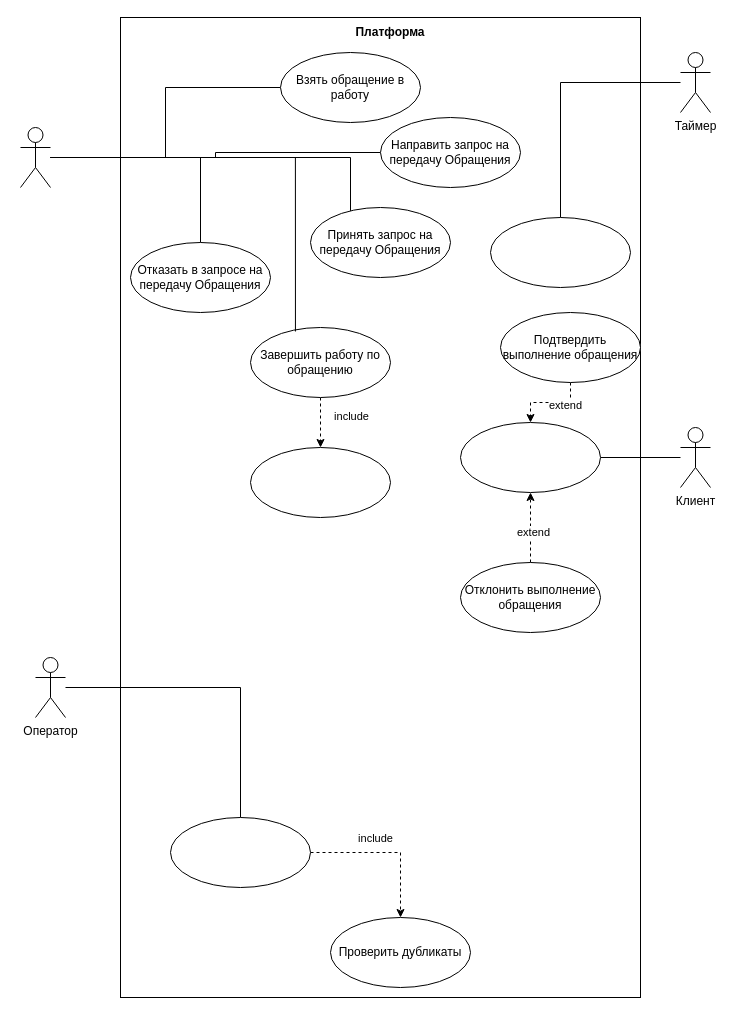
Image size: 734x1015. Some labels were removed from this diagram. Here are the shapes that lost their labels. From the top down, the box of each, then its label:
(20, 126, 50, 188): Юрист
(490, 216, 630, 288): Автозакрытие обращения
(460, 422, 600, 492): Оценить выполнение обращения
(250, 446, 390, 518): Отправить уведомление Клиенту
(170, 816, 310, 888): Зарегистрировать обращение
